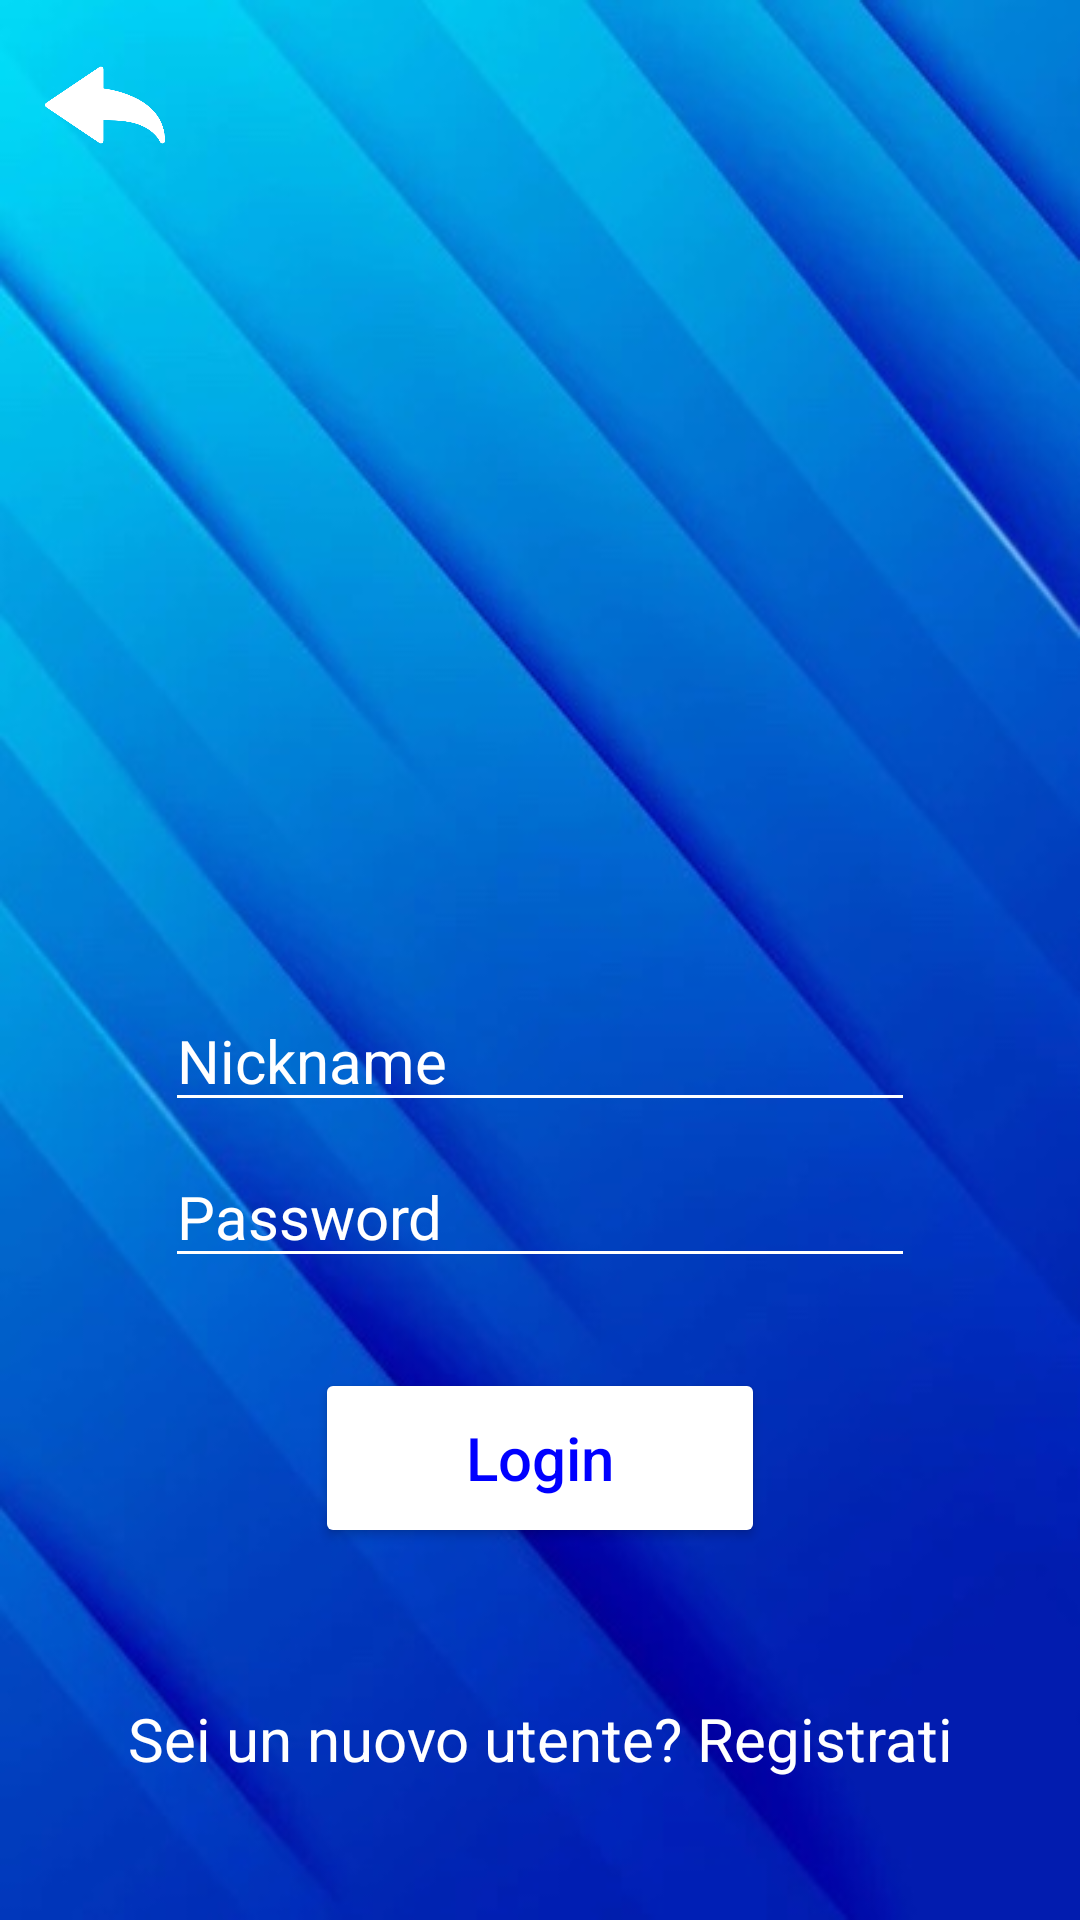

Locate icon controls on the screen. Image size 1080w x 1920h, boxes as (x1, y1, x2, y2).
back: (45, 66, 165, 144)
